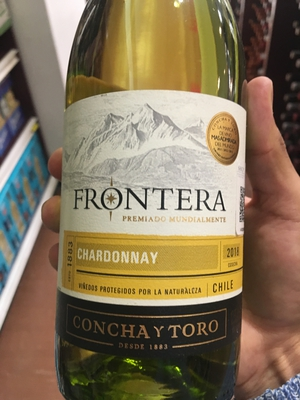frontera chardonnay: (49, 12, 254, 400)
